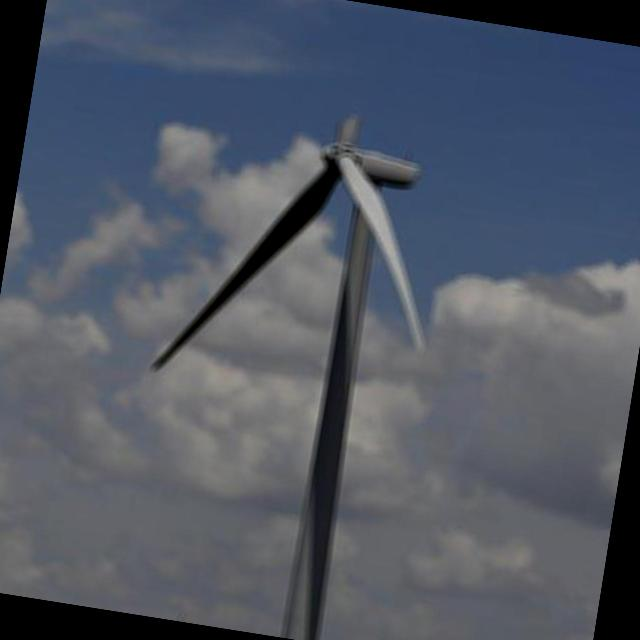crack: (314, 86, 384, 171)
